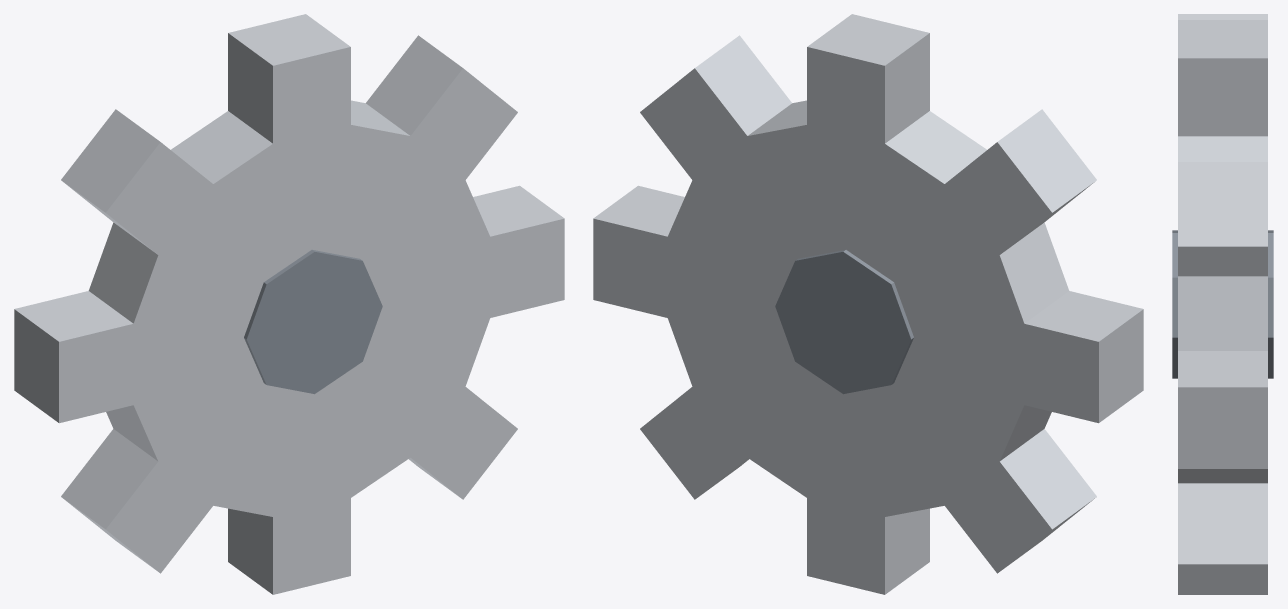
Rendered from Gear.fbx.
The picture shows the model from 3 angles, left to right: view 1: azimuth 30°, elevation 25°; view 2: azimuth 150°, elevation 25°; view 3: azimuth 270°, elevation 25°; orthographic projection.
Parts seen in each view (by area): view 1: Gear; view 2: Gear; view 3: Gear.
Boxes of the visible parts, x1,y1,x2,y2 form: Gear: (14,14,564,594); Gear: (593,14,1143,594); Gear: (1172,14,1273,594).
Size of the model in its own units: 2.6 by 2.6 by 0.45.
1 material, 1 textured.
